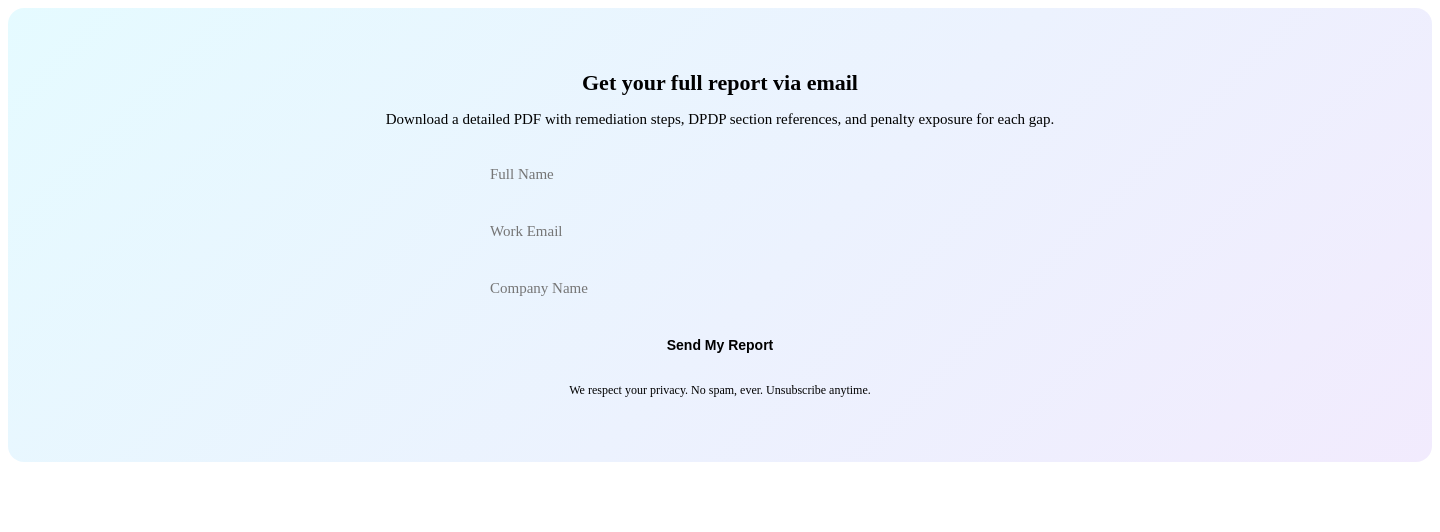
LeadCaptureForm › shows the server's error message and lets the user retry when the API rejects the submission
Type "Asha Rao" into the field labelled "Full Name".
click(720, 174); type("Asha Rao")  # box top-left (470, 152), bottom-right (970, 197)
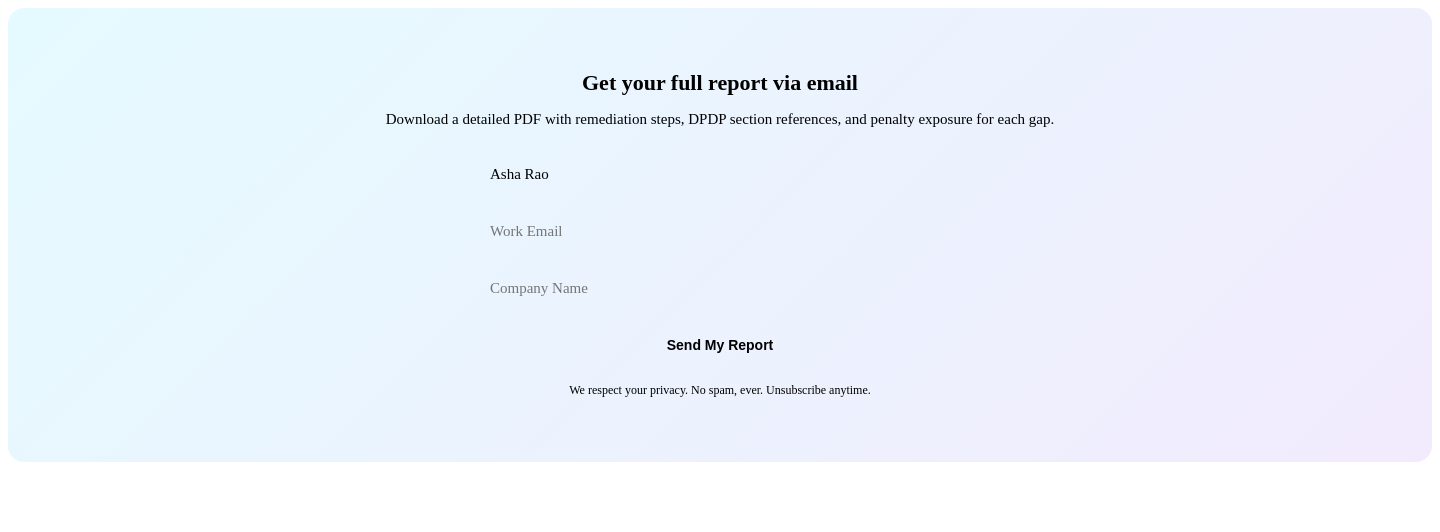
Type "asha@acme.in" into the field labelled "Work Email".
click(720, 232); type("asha@acme.in")  # box top-left (470, 209), bottom-right (970, 254)
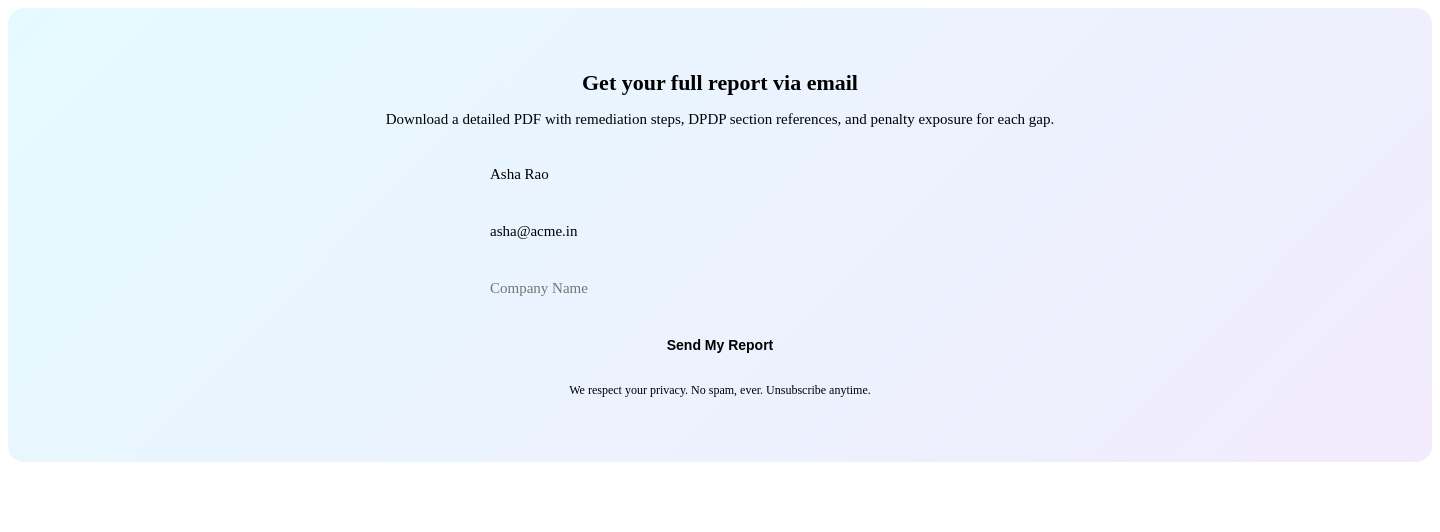
Type "Acme Fintech" into the field labelled "Company Name".
click(720, 288); type("Acme Fintech")  # box top-left (470, 266), bottom-right (970, 311)
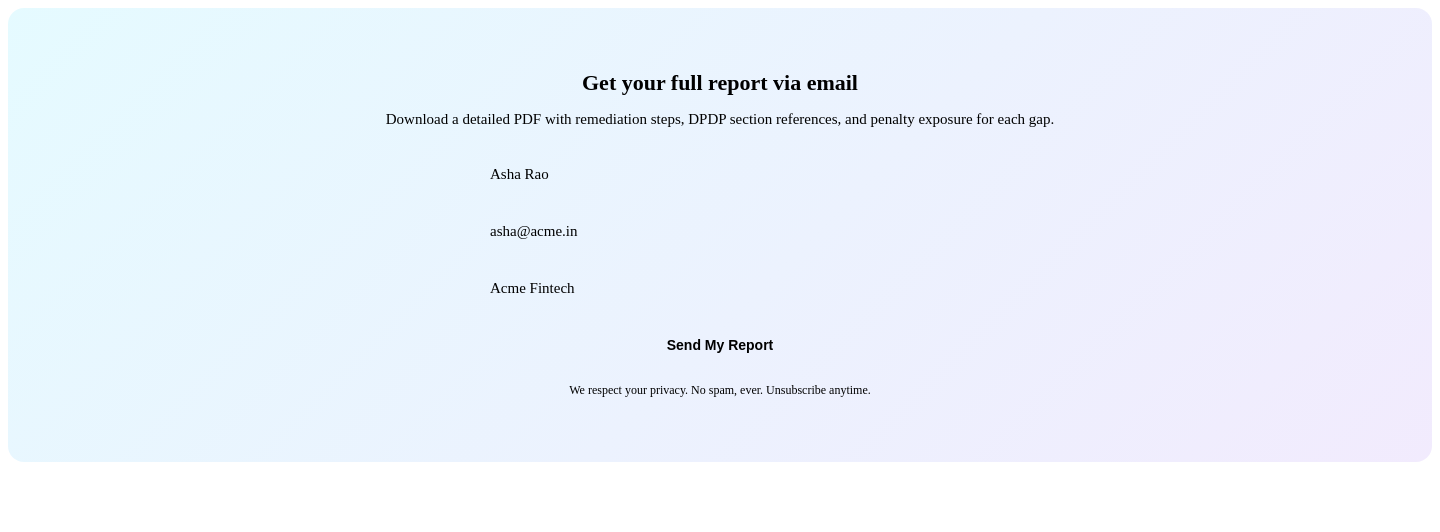
Click the button "Send My Report".
click(720, 345)  # box top-left (639, 323), bottom-right (801, 367)
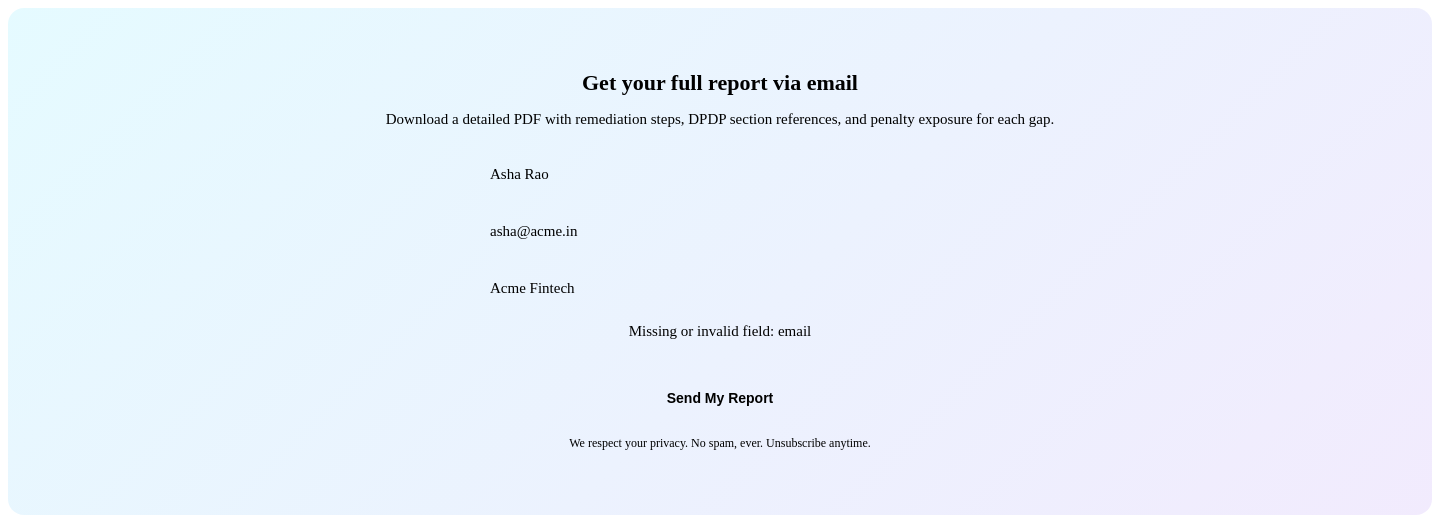
Expected: the message reads "Missing or invalid field: email", top-left (629, 323), bottom-right (811, 339)
Click the button "Send My Report".
click(720, 398)  # box top-left (639, 376), bottom-right (801, 420)
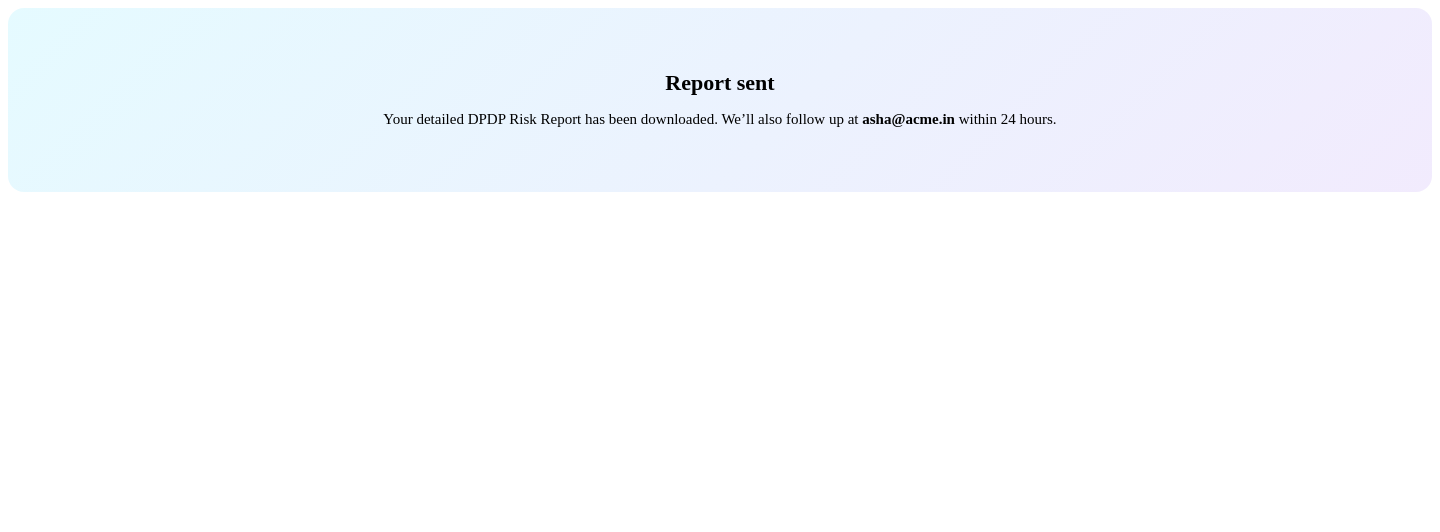
Expected: the heading "Report sent" is shown, top-left (665, 70), bottom-right (775, 95)
